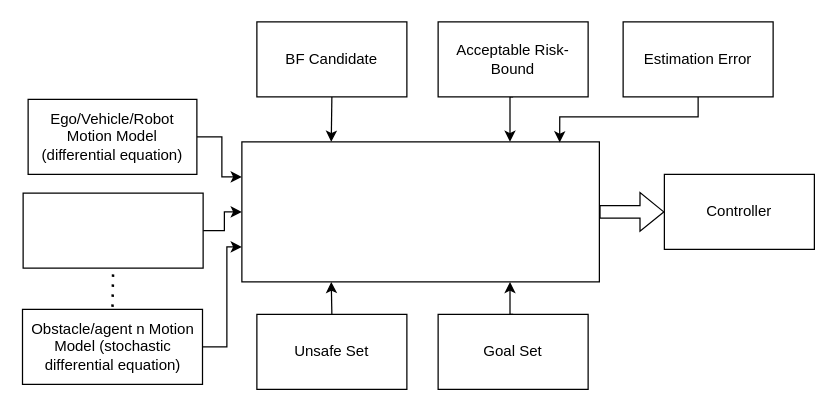
Some shapes in this 836 by 411 pixel diagram are drawn without their labels. Each missing label, with the centre of its shape:
Control Synthesis: (420,211)
Obstacle/agent 1 Motion Model (stochastic differential equation): (112,230)
